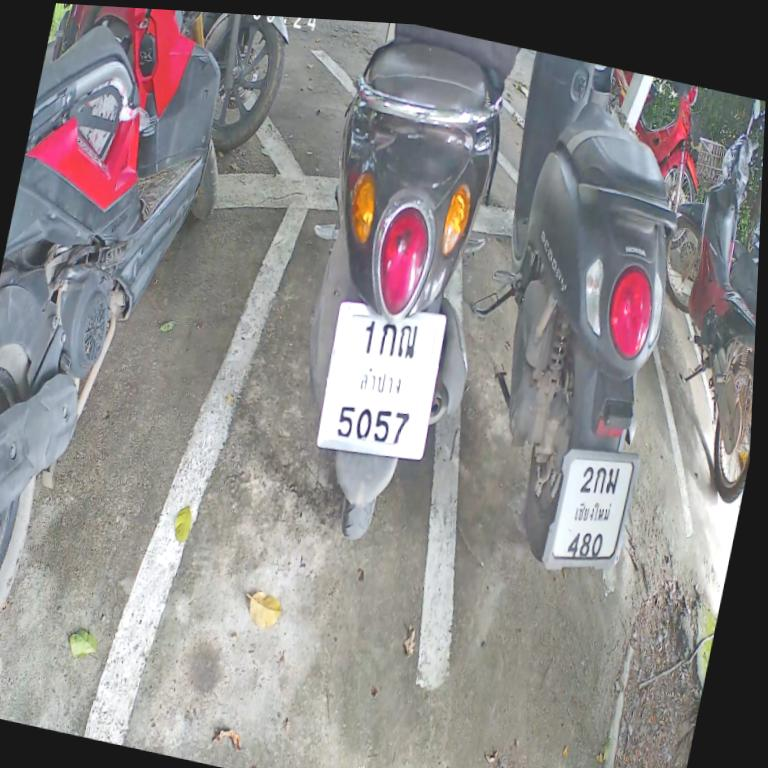license plate: (300, 275, 463, 487), (539, 426, 646, 593)
